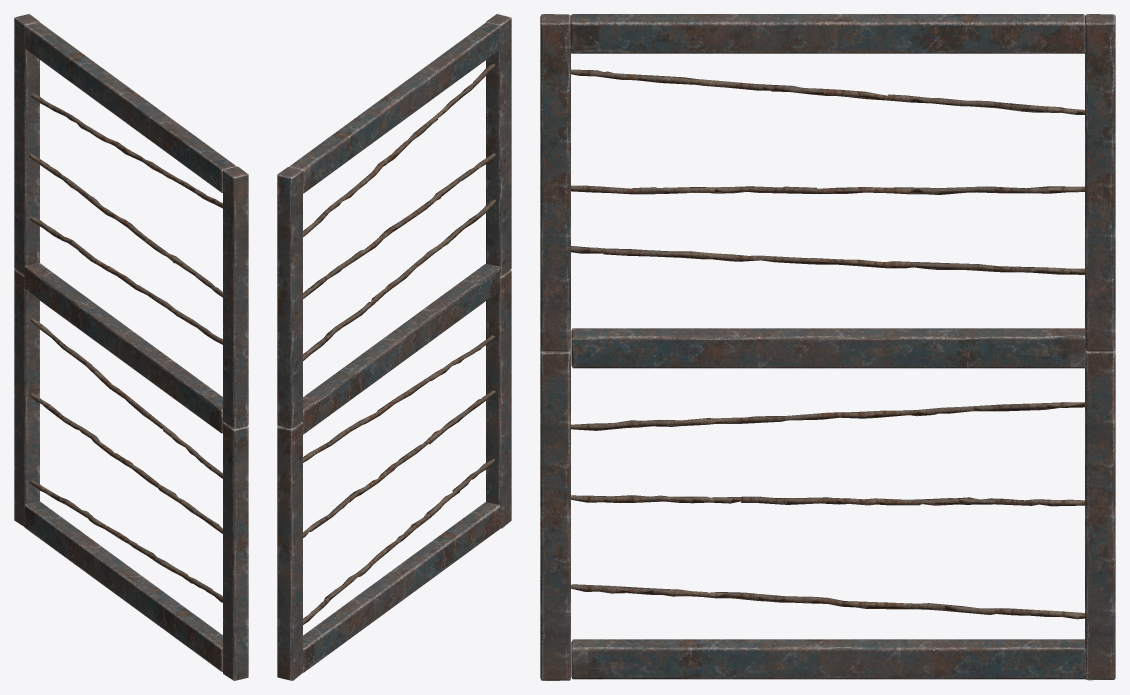
File: SM_WallSupport.fbx
The picture shows the model from 3 angles, left to right: view 1: azimuth 30°, elevation 25°; view 2: azimuth 150°, elevation 25°; view 3: azimuth 270°, elevation 25°; orthographic projection. The views are drawn at different scales.
Parts seen in each view (by area): view 1: SM_WallSupport_LOD0; view 2: SM_WallSupport_LOD0; view 3: SM_WallSupport_LOD0.
Part boxes in pixels (<box>): SM_WallSupport_LOD0: <box>14,14,248,680</box>; SM_WallSupport_LOD0: <box>277,14,511,680</box>; SM_WallSupport_LOD0: <box>540,14,1115,680</box>.
Size of the model in its own units: 20.65 by 473 by 598.
1 material, 1 textured.
